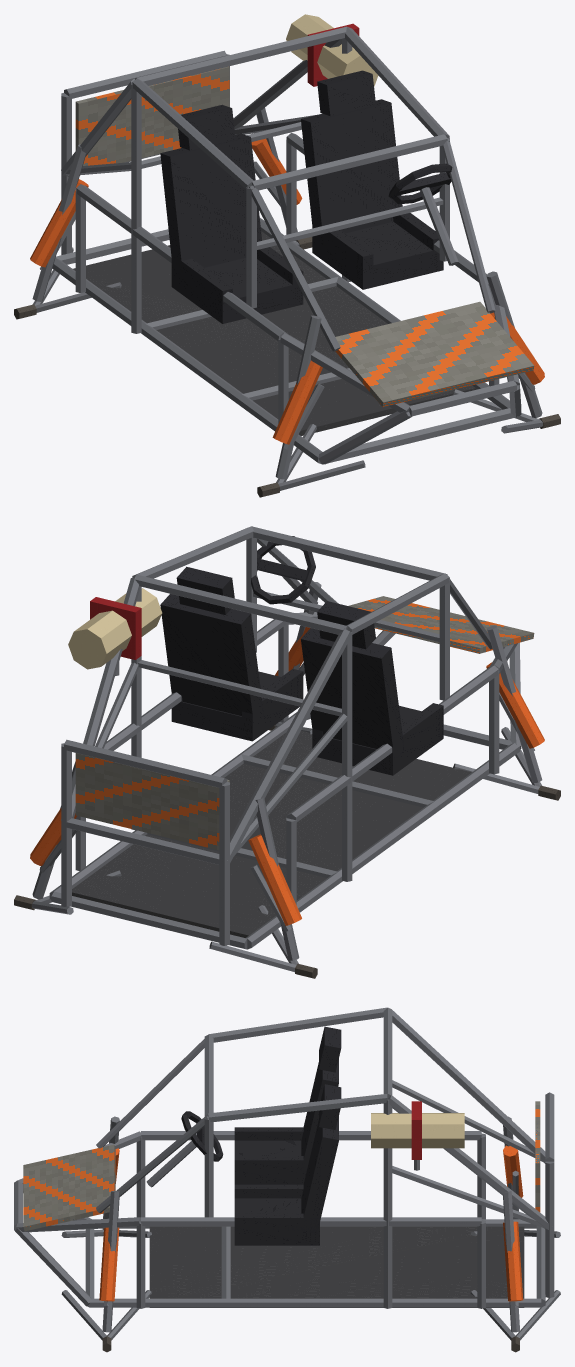
File: dune_buggy.fbx
3 views of the same model, one above another, from view 1: azimuth 30°, elevation 25°; view 2: azimuth 150°, elevation 25°; view 3: azimuth 270°, elevation 25° (orthographic). The views are drawn at different scales.
Parts seen in each view (by area): view 1: dune_buggy; view 2: dune_buggy; view 3: dune_buggy.
Boxes of the visible parts, x1=… form: dune_buggy: x1=14, y1=14, x2=560, y2=497; dune_buggy: x1=14, y1=526, x2=560, y2=978; dune_buggy: x1=14, y1=1007, x2=560, y2=1352.
Bounding box in the file's own units: 238 × 218 × 450.
1 material, 1 textured.
